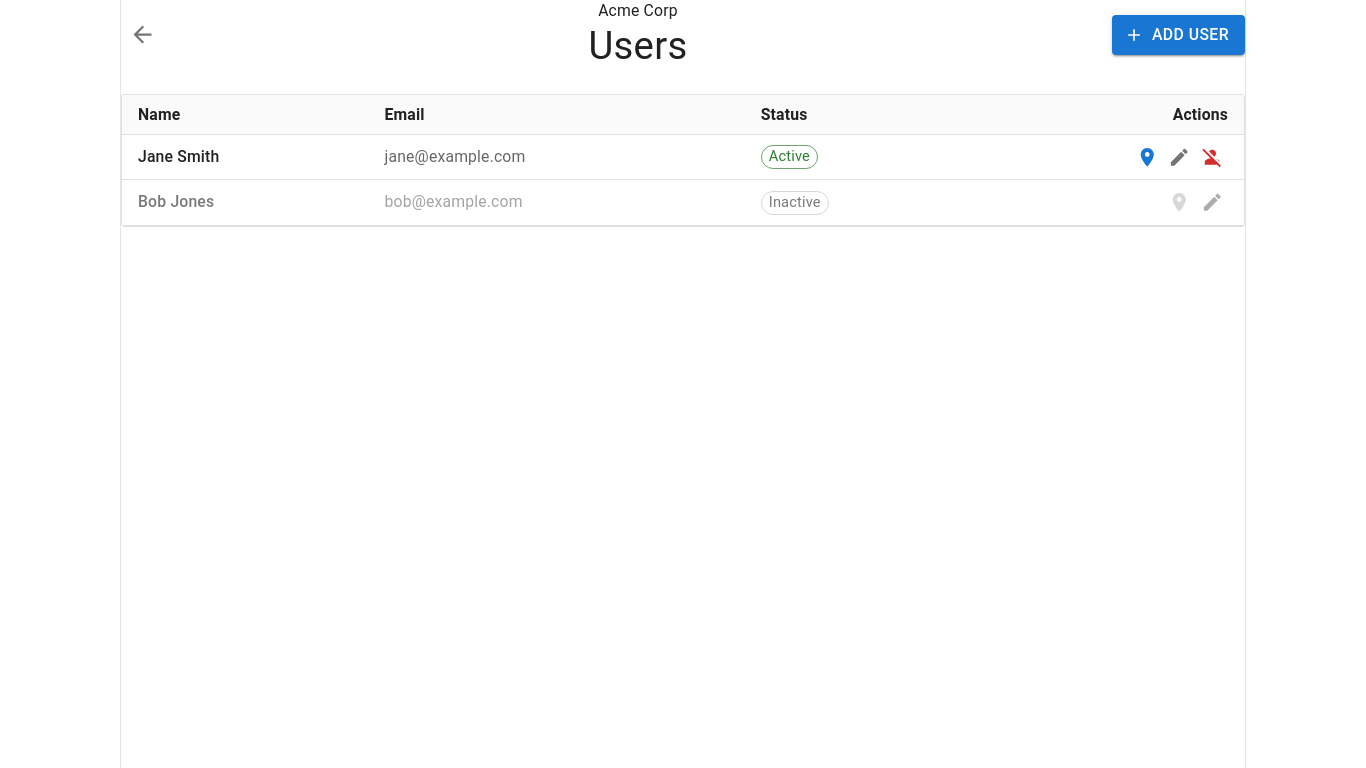
Test: UsersPage › shows a deactivate confirmation dialog on Deactivate click
The image size is (1366, 768).
Expected: the text "Jane Smith" is shown, [122,134,368,180]
Step 1. Click the button named "deactivate" → (1212, 157), box [1196,141,1228,173]
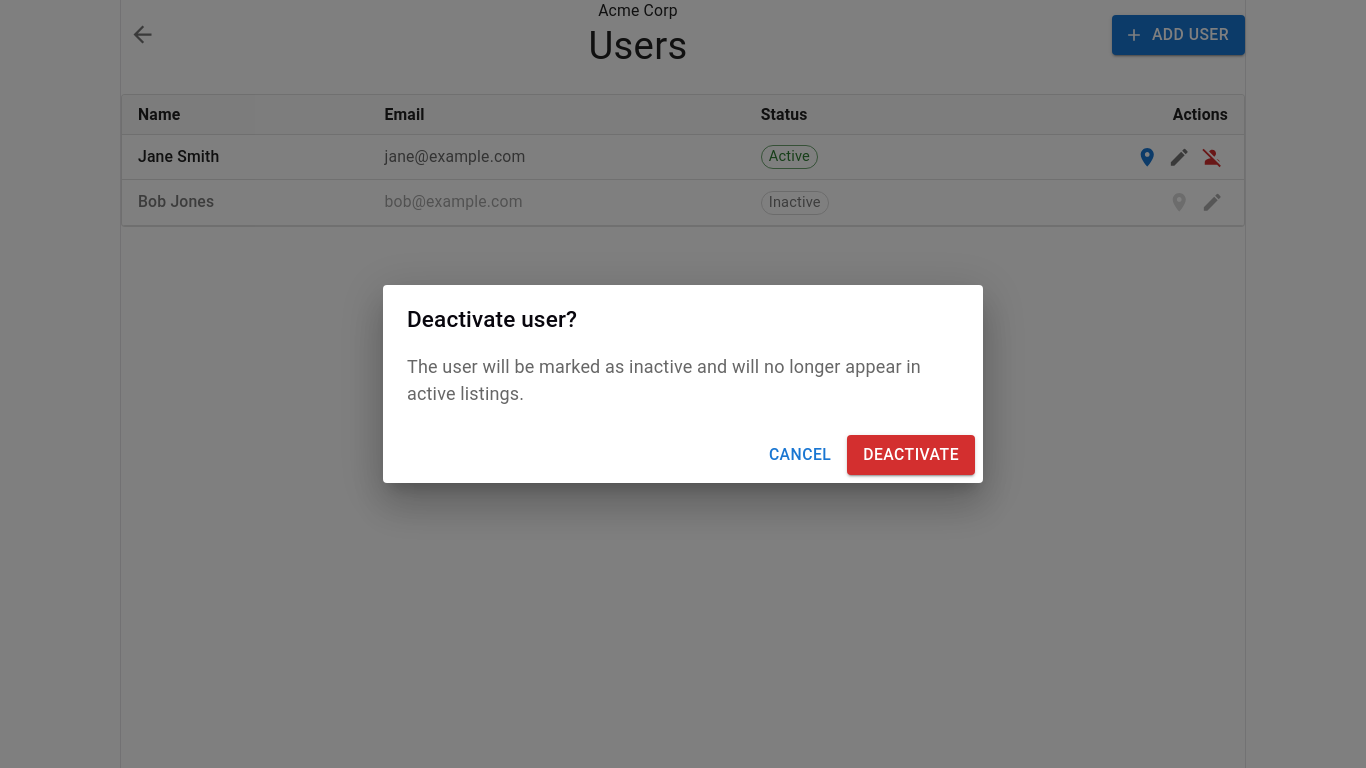
Now the heading "Deactivate user?" is shown, box [407,306,577,332]
